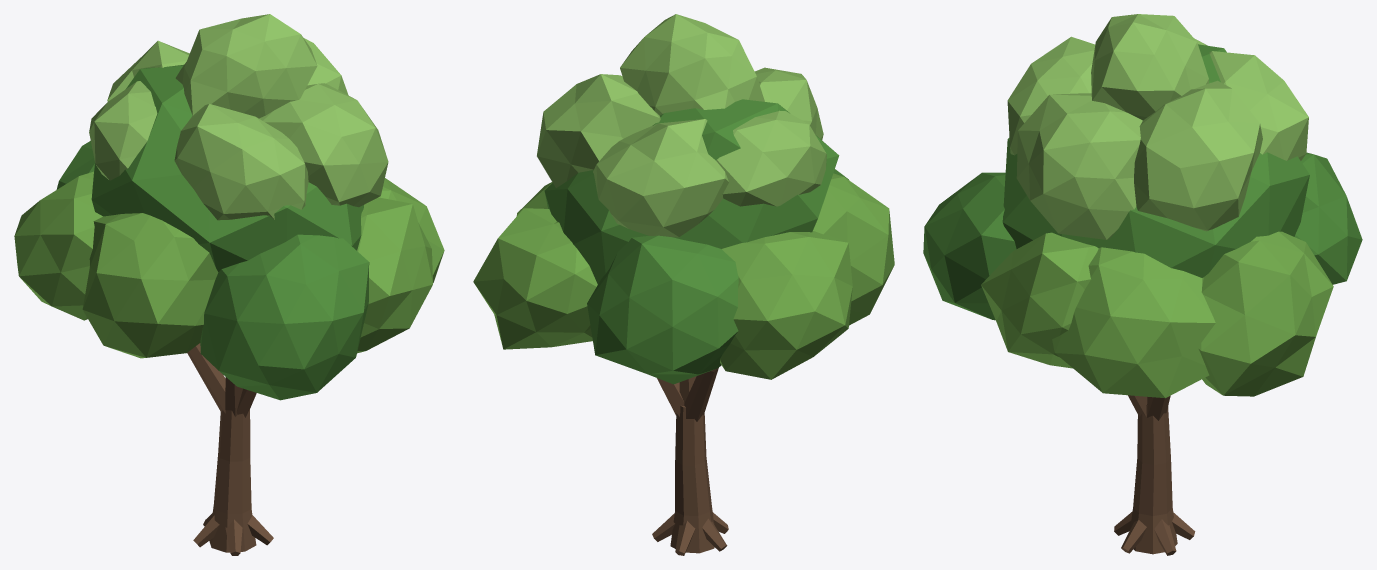
The model's file is maple.glb.
3 views of the same model, side by side, from view 1: azimuth 30°, elevation 25°; view 2: azimuth 150°, elevation 25°; view 3: azimuth 270°, elevation 25° (orthographic). The views are drawn at different scales.
Parts seen in each view (by area): view 1: Maple_LeavesLight, Maple_LeavesDark, Maple_Leaves, Maple_Trunk; view 2: Maple_LeavesLight, Maple_Leaves, Maple_LeavesDark, Maple_Trunk; view 3: Maple_LeavesLight, Maple_Leaves, Maple_LeavesDark, Maple_Trunk.
Boxes of the visible parts, x1=… form: Maple_LeavesLight: x1=89, y1=14, x2=388, y2=220; Maple_LeavesDark: x1=56, y1=64, x2=369, y2=400; Maple_Leaves: x1=14, y1=171, x2=444, y2=358; Maple_Trunk: x1=187, y1=343, x2=273, y2=555; Maple_LeavesLight: x1=537, y1=14, x2=826, y2=237; Maple_Leaves: x1=473, y1=173, x2=894, y2=379; Maple_LeavesDark: x1=544, y1=99, x2=848, y2=384; Maple_Trunk: x1=652, y1=368, x2=728, y2=555; Maple_LeavesLight: x1=1007, y1=14, x2=1308, y2=239; Maple_Leaves: x1=981, y1=231, x2=1333, y2=398; Maple_LeavesDark: x1=923, y1=44, x2=1362, y2=320; Maple_Trunk: x1=1114, y1=395, x2=1195, y2=555.
Size of the model in its own units: 34.78 by 47.7 by 35.48.
